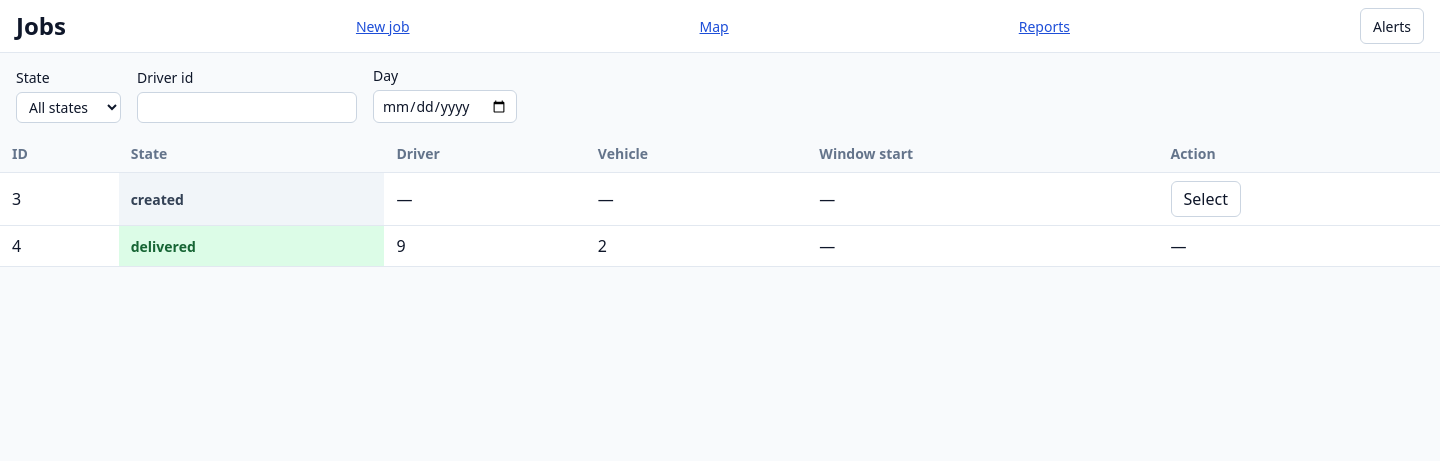
Test: JobsPage › opens the assignment panel for a selectable row only
Click the button with aria-label "Select job 3": (1206, 199) [1170,181,1241,217]
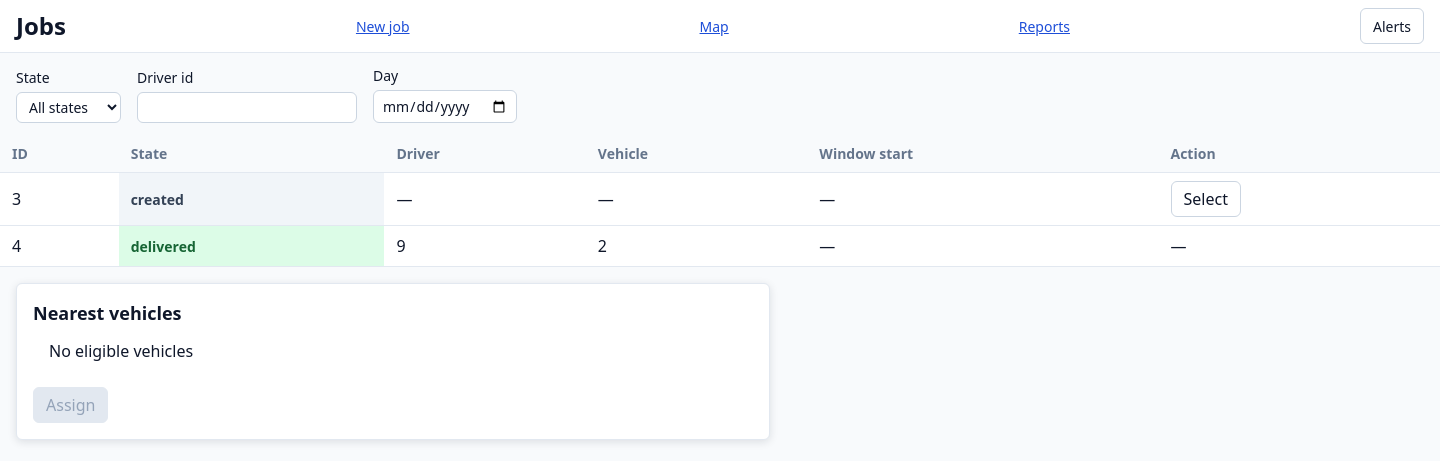
Check: the element named "Assignment" is shown, box [16,283,770,440]
Check: the text "No eligible vehicles" is shown, box [49,340,193,362]
